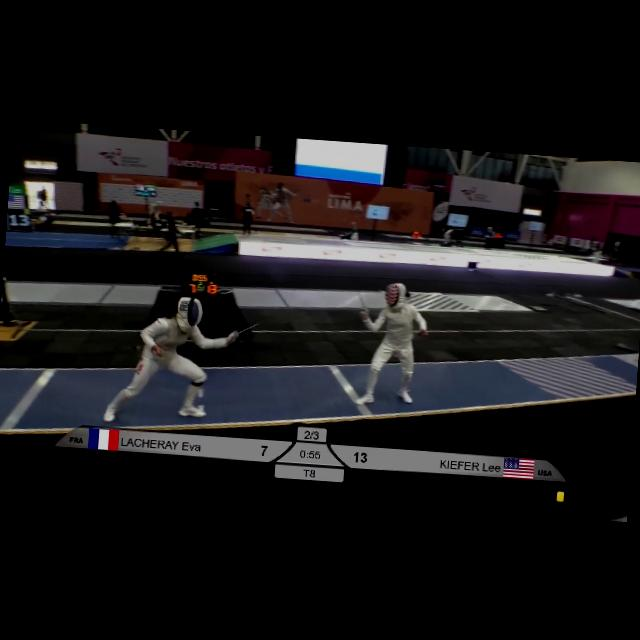blade: (230, 302, 285, 343), (350, 280, 372, 316)
